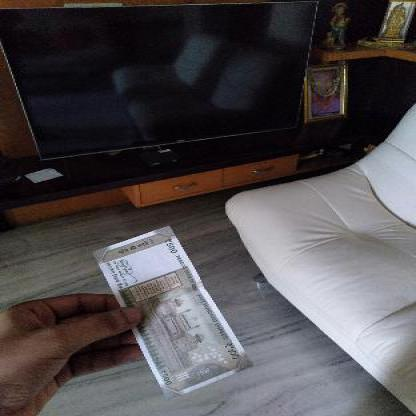New500Back: (91, 226, 253, 392)
